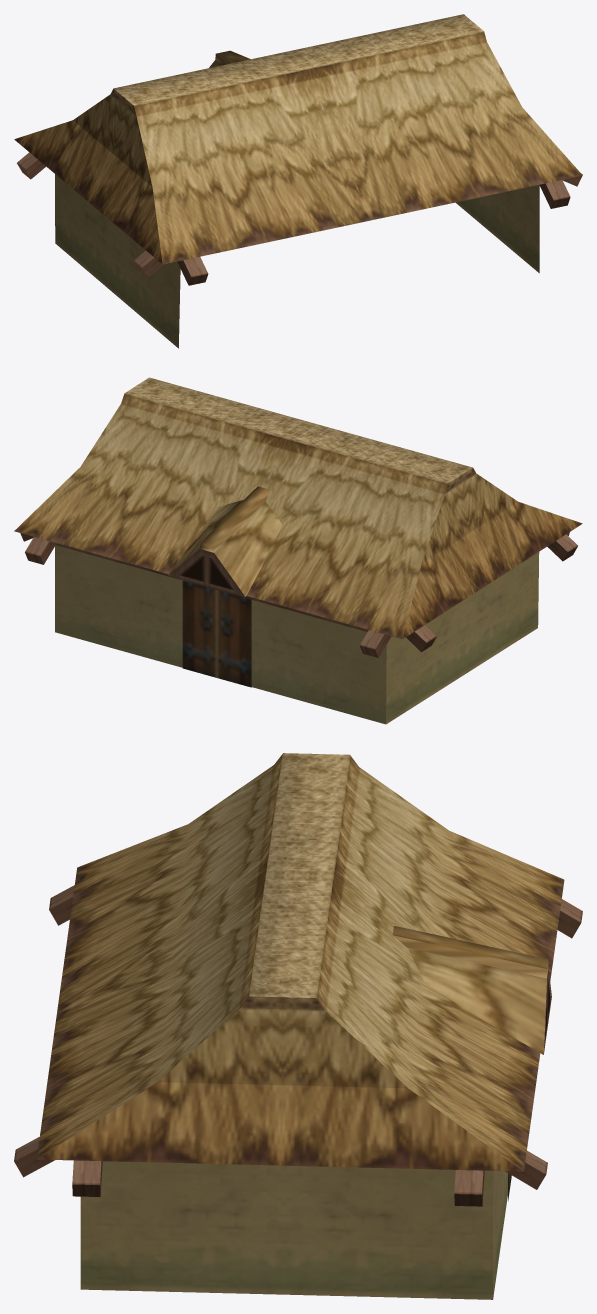
The model's file is Area_10_23.fbx.
3 views of the same model, one above another, from view 1: azimuth 30°, elevation 25°; view 2: azimuth 150°, elevation 25°; view 3: azimuth 270°, elevation 25° (orthographic). The views are drawn at different scales.
Visible parts, largest first — view 1: Area_10_23; view 2: Area_10_23; view 3: Area_10_23.
Part boxes in pixels (x1,y1,x2,y2): Area_10_23: (14, 14, 582, 348); Area_10_23: (14, 377, 582, 724); Area_10_23: (14, 753, 582, 1299).
Size of the model in its own units: 1672 by 725 by 1269.
